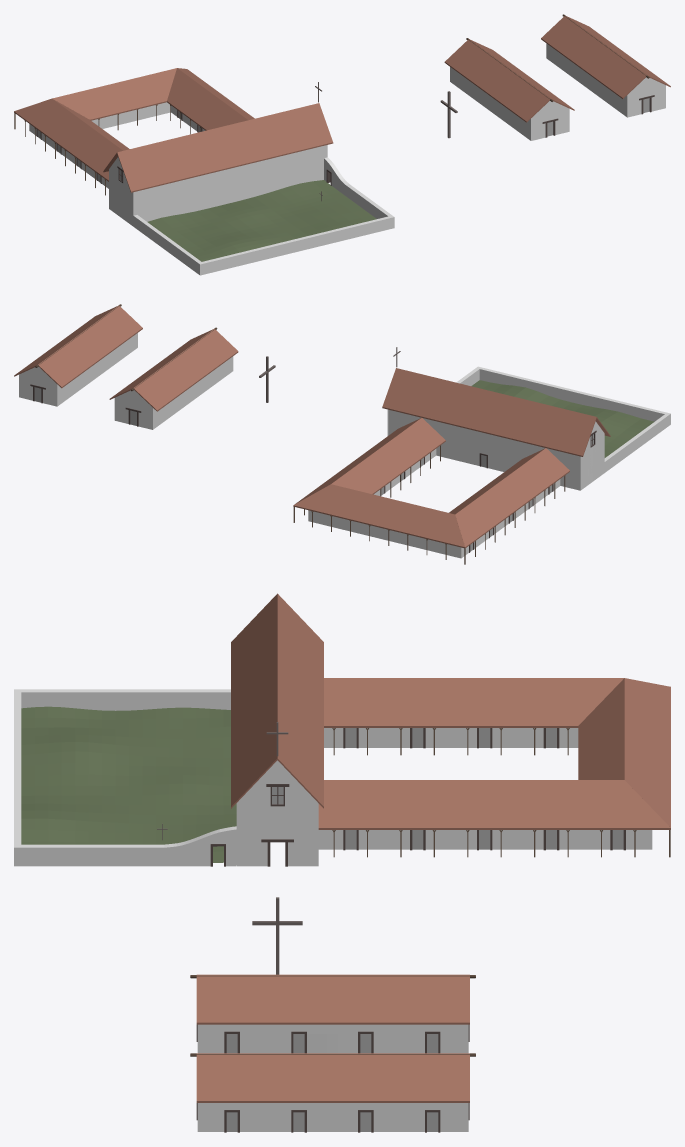
Rendered from third mission no roof.fbx.
3 views of the same model, one above another, from view 1: azimuth 30°, elevation 25°; view 2: azimuth 150°, elevation 25°; view 3: azimuth 270°, elevation 25° (orthographic). The views are drawn at different scales.
Visible parts, largest first — view 1: Plane, roof MAIN, Cube.007, roof MAIN.001, roof MAIN.003, roof.2, roof.3, roof.1, Cube.011, Cube.014, Cube.019, Cube.021 (+6 smaller); view 2: roof MAIN, roof.3, roof.2, Cube.005, roof.1, roof MAIN.003, roof MAIN.001, Plane, Cube.011, Cube.004, Cube.014, Cube.019 (+6 smaller); view 3: Plane, roof.1, roof MAIN, roof MAIN.001, roof.2, roof MAIN.003, roof.3, Cube.015 (001).004, Cube.015 (001).002, Cube.002, Cube.015 (001).003, Cube.012 (+3 smaller).
Part boxes in pixels (x1,y1,x2,y2): Plane: [147, 180, 376, 261]; roof MAIN: [103, 103, 333, 192]; Cube.007: [134, 145, 326, 221]; roof MAIN.001: [444, 39, 574, 122]; roof MAIN.003: [541, 15, 670, 98]; roof.2: [14, 98, 129, 181]; roof.3: [52, 68, 176, 120]; roof.1: [167, 68, 254, 130]; Cube.011: [202, 216, 390, 274]; Cube.014: [450, 67, 530, 140]; Cube.019: [546, 44, 626, 116]; Cube.021: [626, 77, 665, 117]; roof MAIN: [382, 368, 610, 456]; roof.3: [293, 484, 465, 548]; roof.2: [449, 448, 569, 547]; Cube.005: [388, 410, 579, 490]; roof.1: [294, 417, 445, 504]; roof MAIN.003: [14, 305, 142, 388]; roof MAIN.001: [109, 328, 238, 411]; Plane: [471, 380, 654, 457]; Cube.011: [479, 367, 666, 421]; Cube.004: [309, 510, 460, 557]; Cube.014: [153, 357, 232, 429]; Cube.019: [58, 333, 137, 405]; Plane: [21, 706, 236, 862]; roof.1: [318, 780, 670, 829]; roof MAIN: [231, 593, 323, 808]; roof MAIN.001: [196, 974, 469, 1024]; roof.2: [324, 678, 623, 727]; roof MAIN.003: [196, 1053, 469, 1102]; roof.3: [578, 678, 670, 827]; Cube.015 (001).004: [199, 1024, 466, 1053]; Cube.015 (001).002: [199, 1103, 466, 1132]; Cube.002: [237, 760, 318, 866]; Cube.015 (001).003: [318, 830, 652, 850]; Cube.012: [14, 826, 236, 866].
Size of the model in its own units: 27512 by 4345 by 17700.
